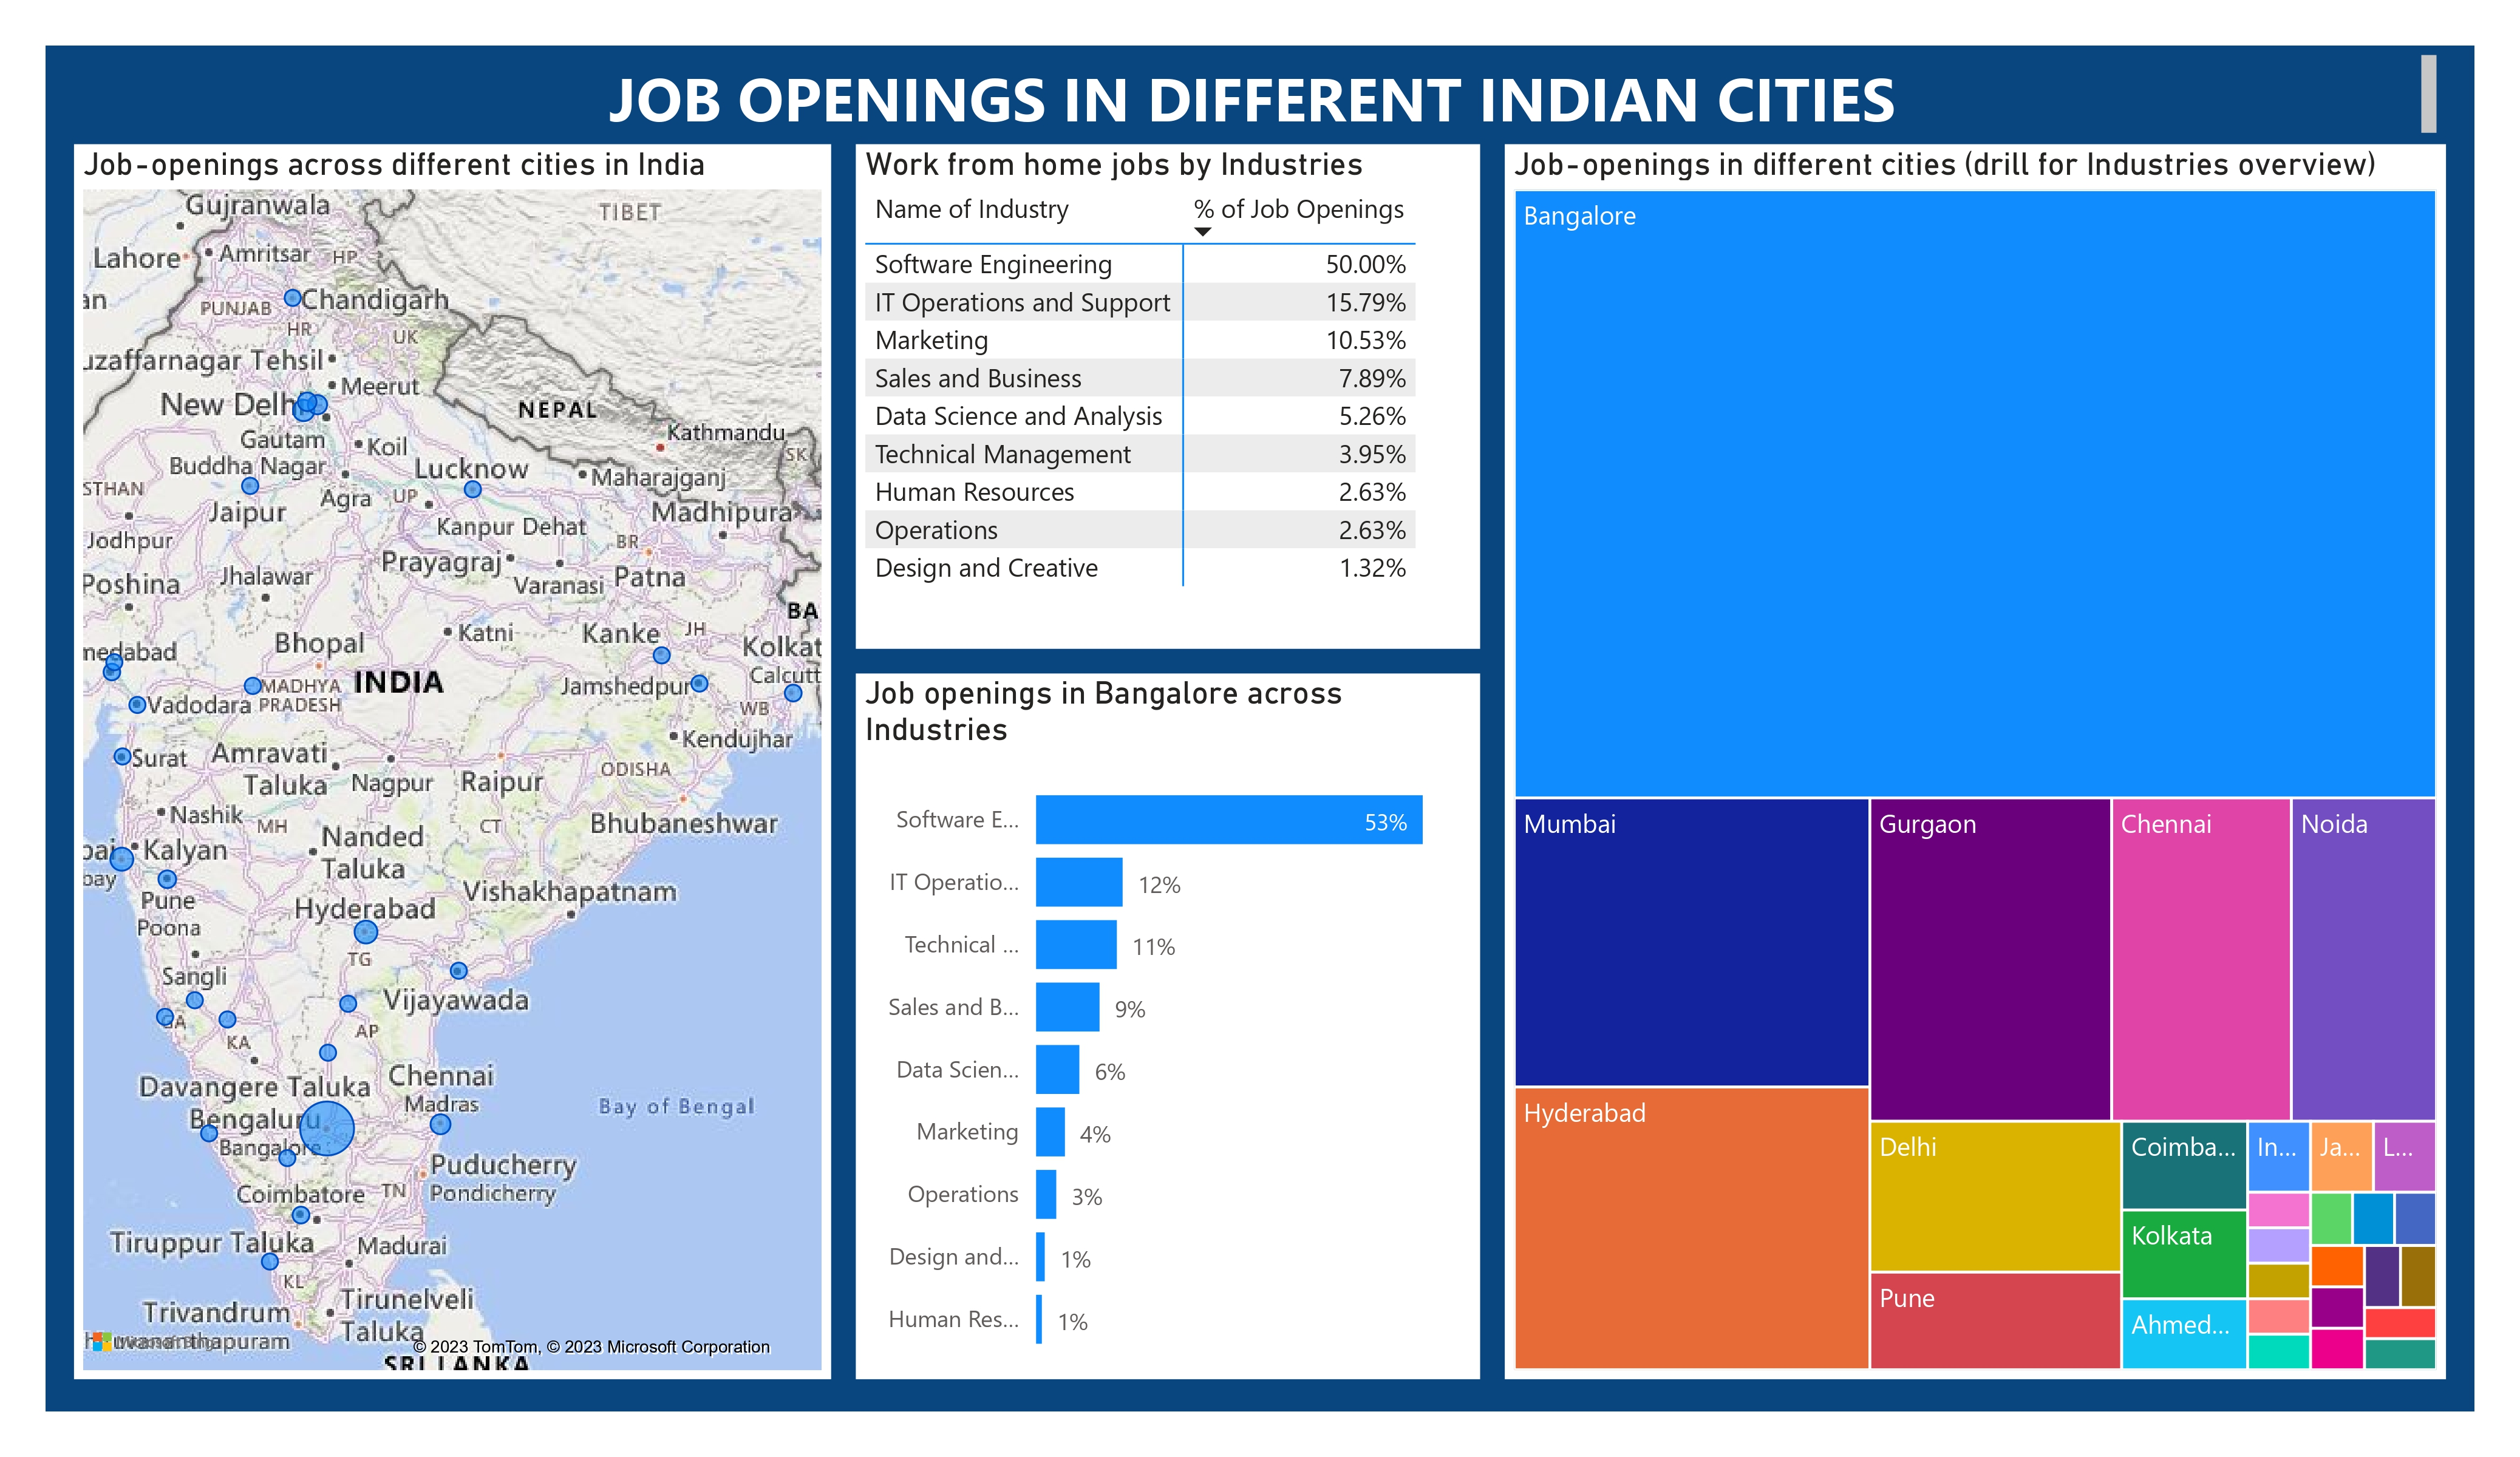

What the dashboard file says about the page in this screenshot:
{"tool":"powerbi","page":{"name":"Location","canvas":[1280,720],"ordinal":1},"visuals":[{"type":"map","title":"Job-openings across different cities in India","fields":{"Size":["CountNonNull(locations.job_id)"],"Category":["locations.location"]},"box":[15.5,52.1,398.6,650.7],"z":0},{"type":"treemap","title":"Job-openings in different cities (drill for Industries overview)","fields":{"Group":["locations.location","jobs.industry"],"Values":["CountNonNull(locations.job_id)"]},"box":[769,52.1,495.8,650.7],"z":1000},{"type":"barChart","title":"Job openings in Bangalore across Industries","fields":{"Category":["jobs.industry"],"Y":["Divide(CountNonNull(locations.job_id), ScopedEval(CountNonNull(locations.job_id), []))"]},"box":[426.8,331,329.6,371.8],"z":2000},{"type":"pivotTable","title":"Work from home jobs by Industries","fields":{"Rows":["jobs.industry"],"Values":["Count(locations.job_id)"]},"box":[426.8,52.1,329.6,266.2],"z":3000},{"type":"textbox","box":[15.5,0,1249.3,52.1],"z":4000}]}

Visuals, with their boxes in screenshot pixels (x1, y1, x2, y2):
"Job-openings across different cities in India" map: [left=75, top=144, right=831, bottom=1379]
"Job-openings in different cities (drill for Industries overview)" treemap: [left=1505, top=144, right=2446, bottom=1379]
"Job openings in Bangalore across Industries" barChart: [left=856, top=673, right=1481, bottom=1379]
"Work from home jobs by Industries" pivotTable: [left=856, top=144, right=1481, bottom=650]
textbox: [left=75, top=46, right=2446, bottom=144]
